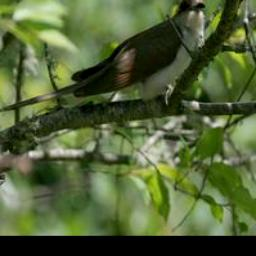Cuckoo: (0, 0, 205, 116)
